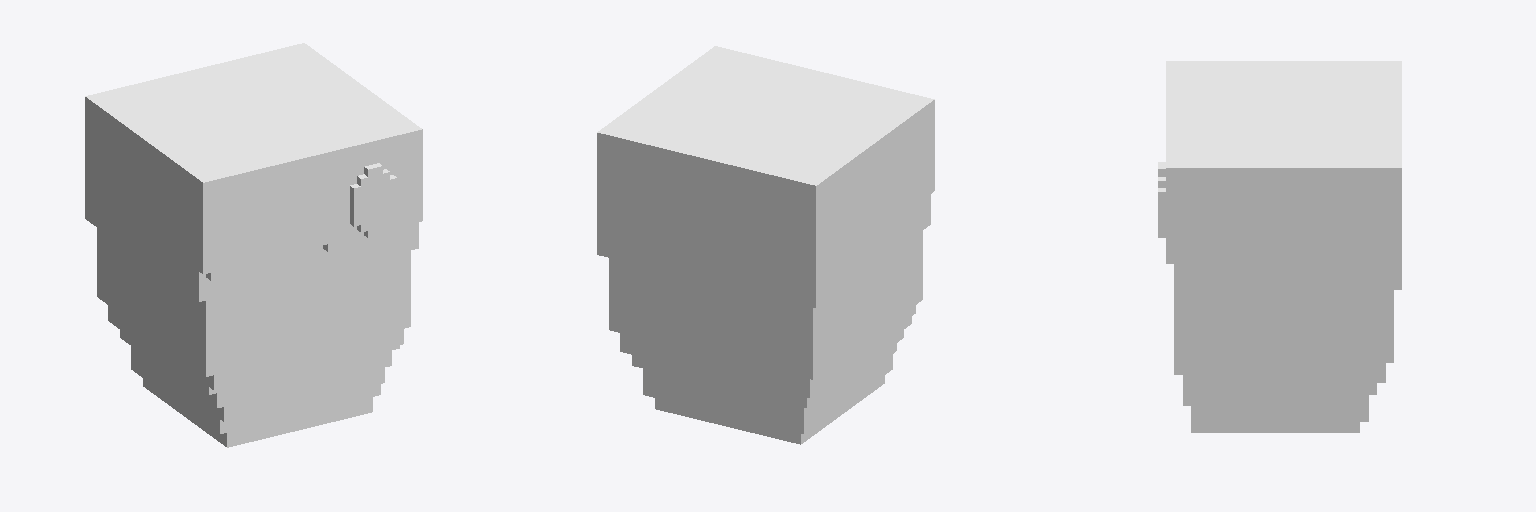
File: Guard1_Body.obj
The picture shows the model from 3 angles: view 1: azimuth 30°, elevation 25°; view 2: azimuth 150°, elevation 25°; view 3: azimuth 270°, elevation 25°; orthographic projection.
Bounding box in the file's own units: 30 × 37 × 29.